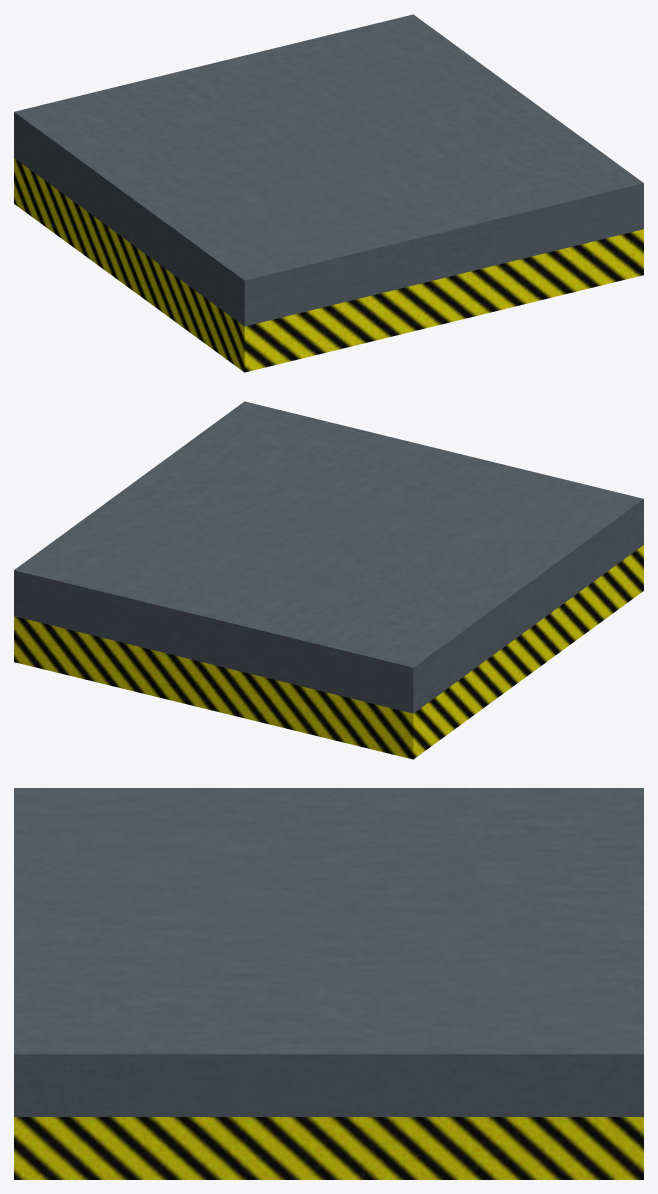
File: CeilingPanels01.fbx
3 renders of one model, top to bottom at view 1: azimuth 30°, elevation 25°; view 2: azimuth 150°, elevation 25°; view 3: azimuth 270°, elevation 25°, orthographic. The views are drawn at different scales.
Visible parts, largest first — view 1: CeilingPanels01; view 2: CeilingPanels01; view 3: CeilingPanels01.
Part boxes in pixels (bbox=[...]): CeilingPanels01: bbox=[14, 14, 643, 372]; CeilingPanels01: bbox=[14, 401, 643, 759]; CeilingPanels01: bbox=[14, 788, 643, 1179].
Bounding box in the file's own units: 200 × 44 × 200.
